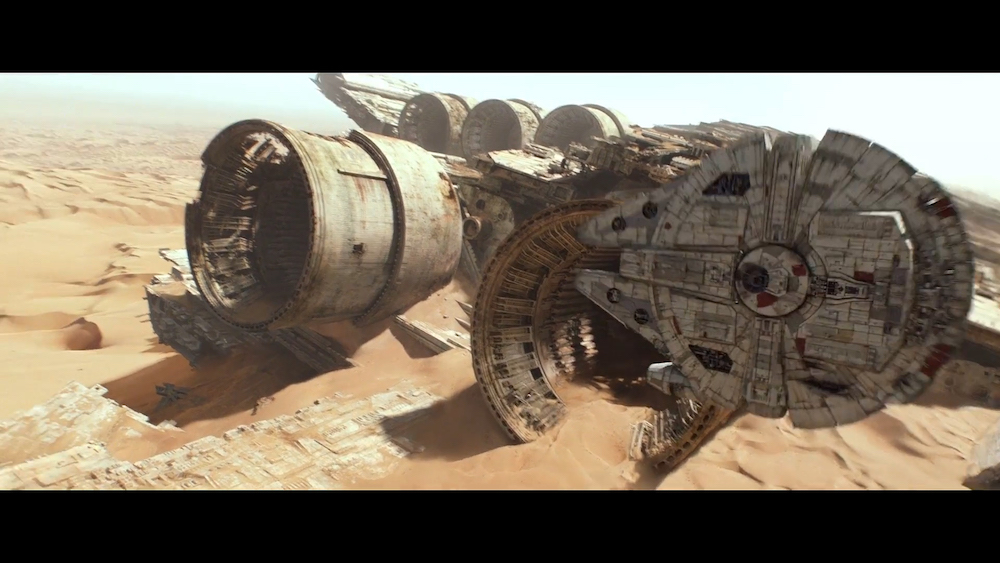Millennium Falcon: (573, 128, 973, 431)
